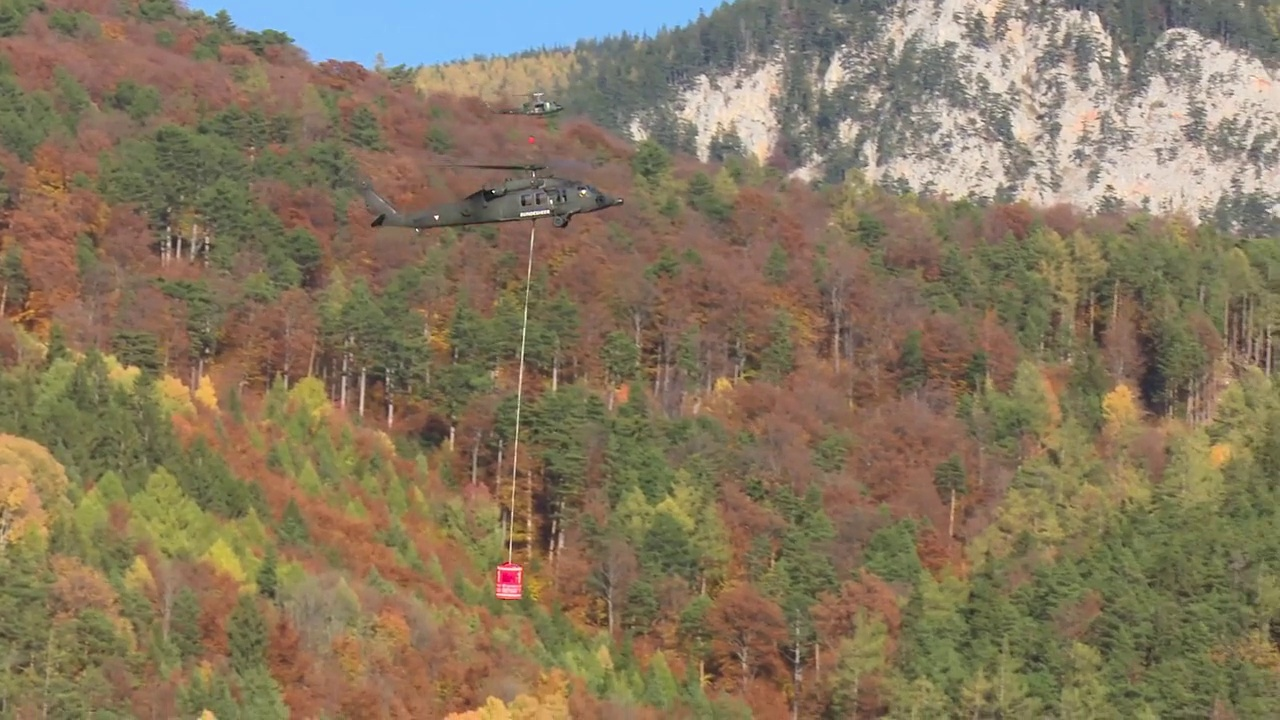heli: (364, 161, 626, 230), (489, 90, 563, 118)
